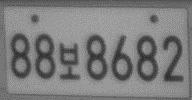2: (162, 35, 184, 82)
6: (111, 34, 134, 81)
8: (84, 34, 108, 80), (33, 33, 56, 80), (136, 35, 159, 82), (9, 32, 31, 79)
보: (58, 41, 80, 81)
